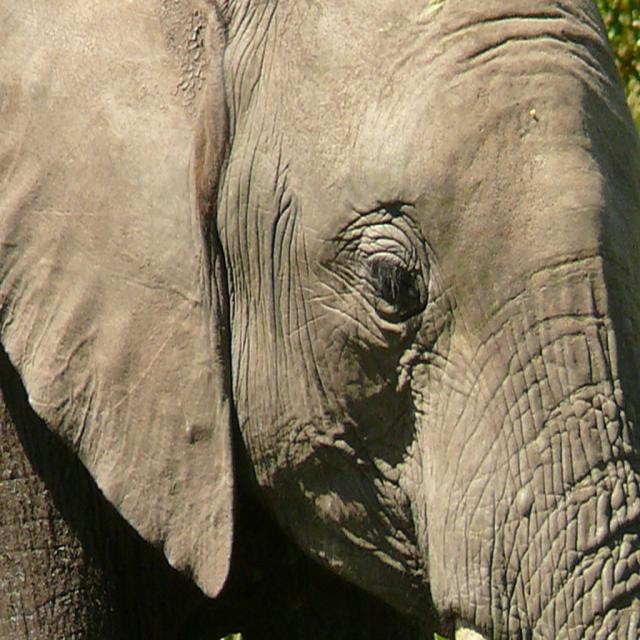Elephant: (89, 8, 640, 640)
